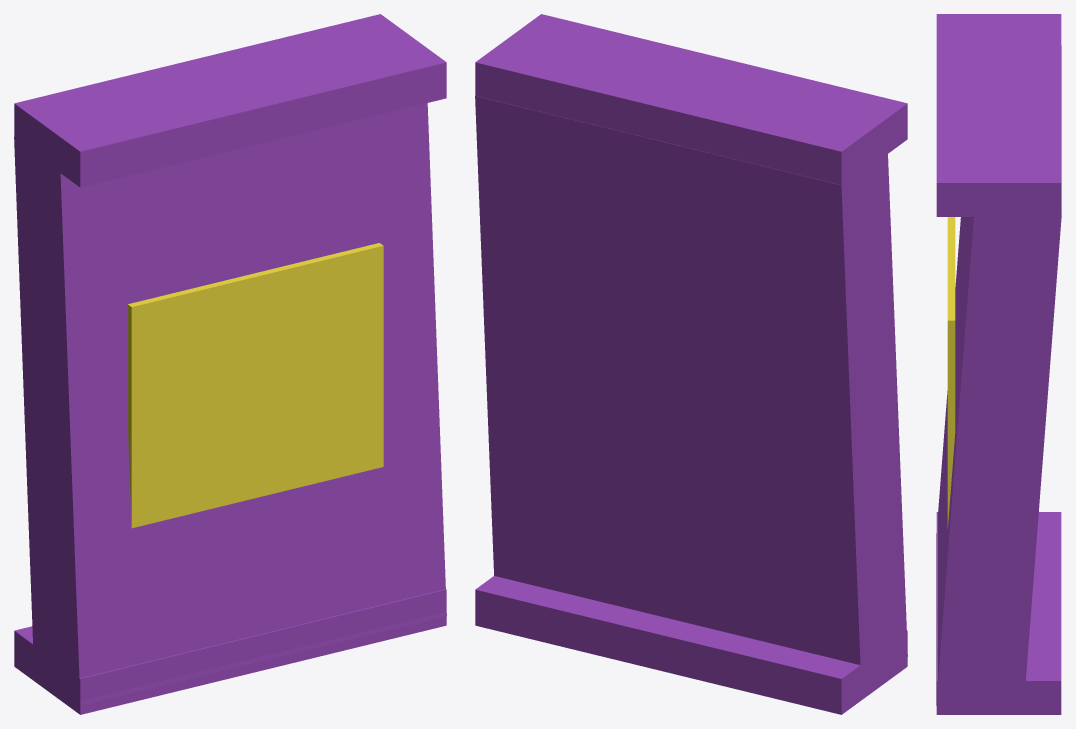
File: Prop_Chip_Bag.glb
3 renders of one model, left to right at view 1: azimuth 30°, elevation 25°; view 2: azimuth 150°, elevation 25°; view 3: azimuth 270°, elevation 25°, orthographic. The views are drawn at different scales.
Parts seen in each view (by area): view 1: Prop_Chip_Bag_Export; view 2: Prop_Chip_Bag_Export; view 3: Prop_Chip_Bag_Export.
Part boxes in pixels (box(x1,y1,x2,y2)): Prop_Chip_Bag_Export: box(14, 14, 446, 714); Prop_Chip_Bag_Export: box(475, 14, 907, 714); Prop_Chip_Bag_Export: box(936, 14, 1061, 714).
Size of the model in its own units: 0.16 by 0.235 by 0.0503.
